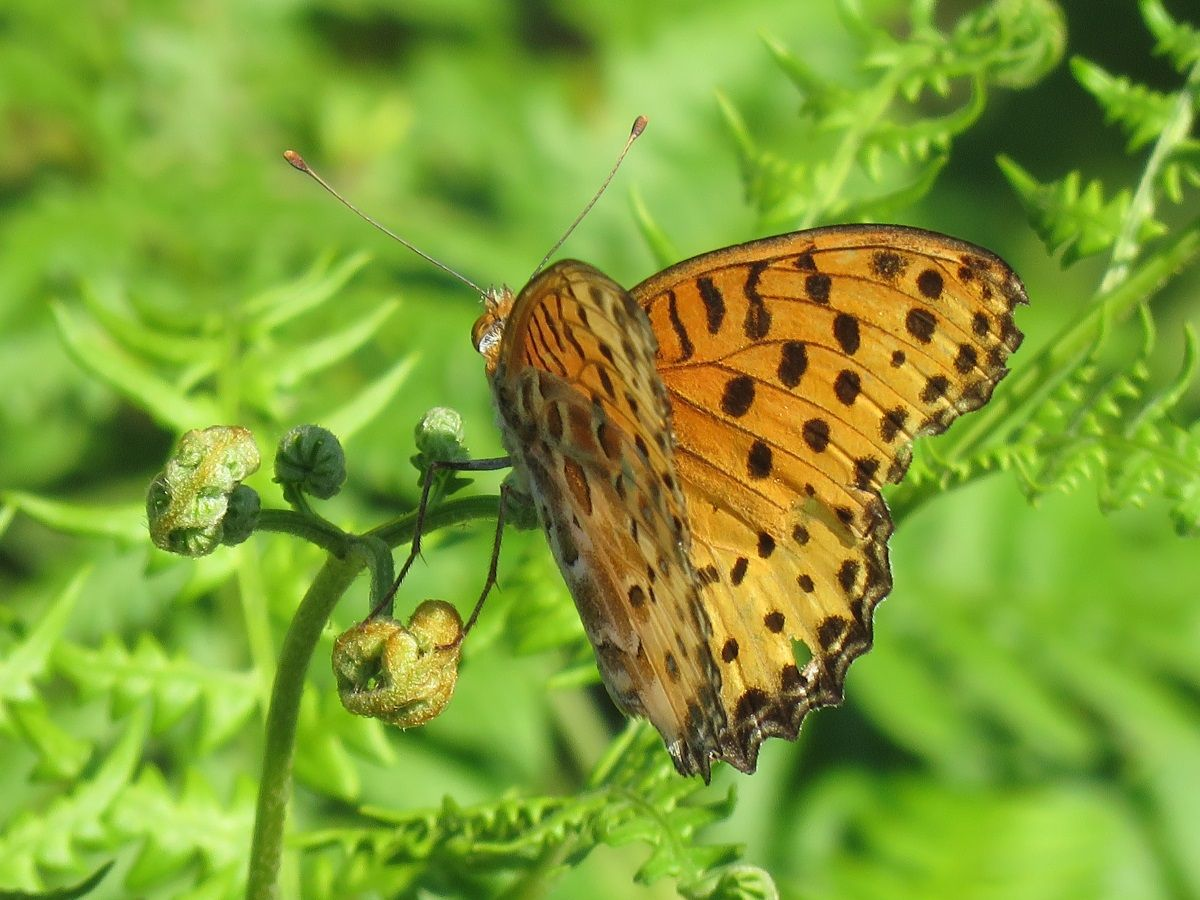Argyreus hyperbius: (277, 110, 1038, 785)
butterfly: (279, 112, 1040, 787)
